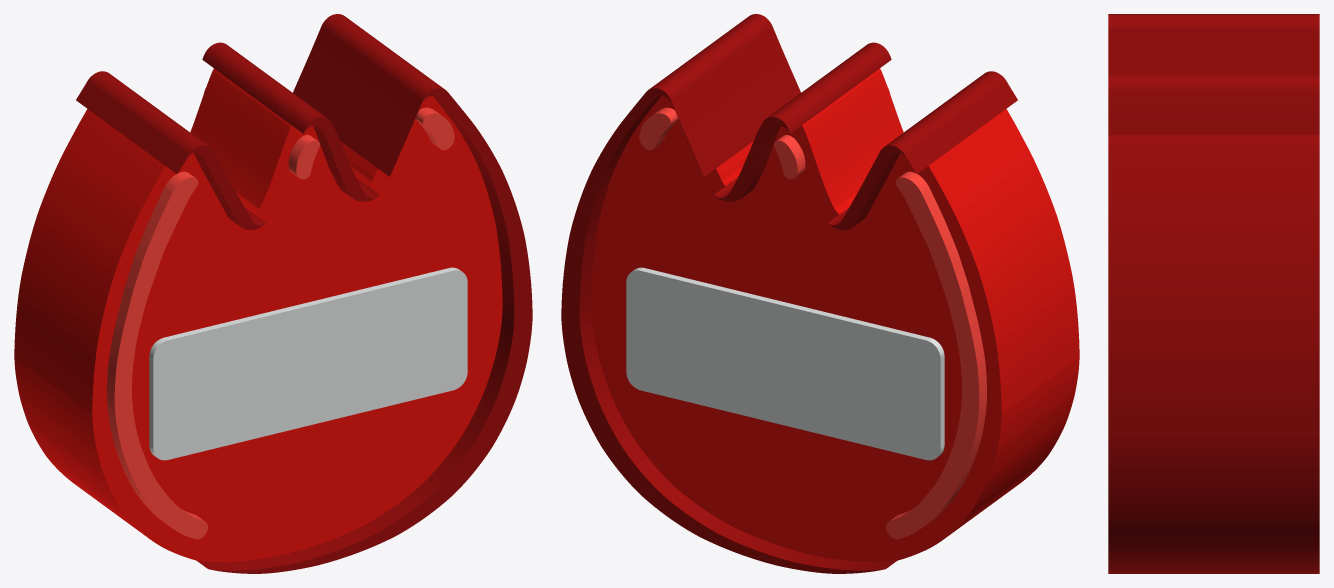
The picture shows the model from 3 angles, left to right: view 1: azimuth 30°, elevation 25°; view 2: azimuth 150°, elevation 25°; view 3: azimuth 270°, elevation 25°; orthographic projection. The views are drawn at different scales.
Visible parts, largest first — view 1: U+1F4DB_layer00_obj00, U+1F4DB_layer01_obj00, U+1F4DB_layer03_obj02, U+1F4DB_layer02_obj02, U+1F4DB_layer00_obj01, U+1F4DB_layer03_obj00, U+1F4DB_layer03_obj01, U+1F4DB_layer02_obj00, U+1F4DB_layer02_obj01, U+1F4DB_layer00_obj03; view 2: U+1F4DB_layer00_obj00, U+1F4DB_layer01_obj00, U+1F4DB_layer03_obj02, U+1F4DB_layer02_obj02, U+1F4DB_layer00_obj01, U+1F4DB_layer03_obj00, U+1F4DB_layer03_obj01, U+1F4DB_layer02_obj00, U+1F4DB_layer02_obj01, U+1F4DB_layer00_obj03; view 3: U+1F4DB_layer03_obj02, U+1F4DB_layer03_obj00, U+1F4DB_layer03_obj01.
Part boxes in pixels (x1,y1,x2,y2): U+1F4DB_layer00_obj00: [14, 96, 502, 561]; U+1F4DB_layer01_obj00: [149, 267, 467, 460]; U+1F4DB_layer03_obj02: [197, 14, 532, 573]; U+1F4DB_layer02_obj02: [107, 171, 207, 539]; U+1F4DB_layer00_obj01: [190, 68, 291, 214]; U+1F4DB_layer03_obj00: [76, 71, 265, 230]; U+1F4DB_layer03_obj01: [202, 42, 379, 201]; U+1F4DB_layer02_obj00: [415, 107, 454, 150]; U+1F4DB_layer02_obj01: [204, 88, 319, 179]; U+1F4DB_layer00_obj03: [340, 141, 377, 185]; U+1F4DB_layer00_obj00: [591, 96, 1079, 561]; U+1F4DB_layer01_obj00: [626, 267, 944, 460]; U+1F4DB_layer03_obj02: [561, 14, 896, 573]; U+1F4DB_layer02_obj02: [886, 171, 986, 539]; U+1F4DB_layer00_obj01: [802, 68, 903, 214]; U+1F4DB_layer03_obj00: [828, 71, 1017, 230]; U+1F4DB_layer03_obj01: [714, 42, 891, 201]; U+1F4DB_layer02_obj00: [639, 107, 678, 150]; U+1F4DB_layer02_obj01: [774, 88, 889, 179]; U+1F4DB_layer00_obj03: [716, 141, 753, 185]; U+1F4DB_layer03_obj02: [1108, 133, 1319, 573]; U+1F4DB_layer03_obj00: [1108, 14, 1319, 73]; U+1F4DB_layer03_obj01: [1108, 74, 1319, 133].
Size of the model in its own units: 0.3175 by 0.3172 by 0.13.
